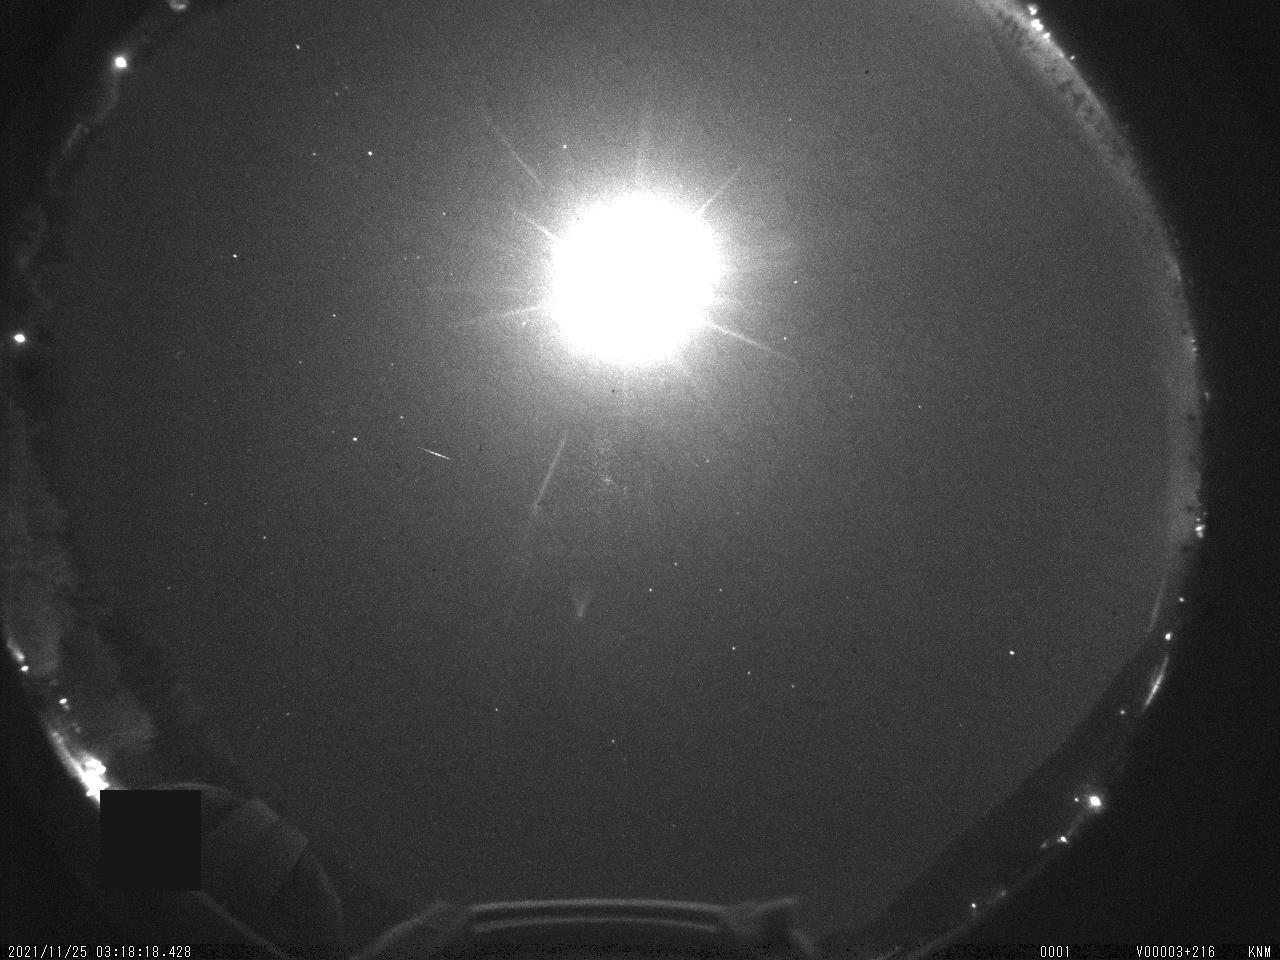Meteor: (419, 443, 456, 465)
